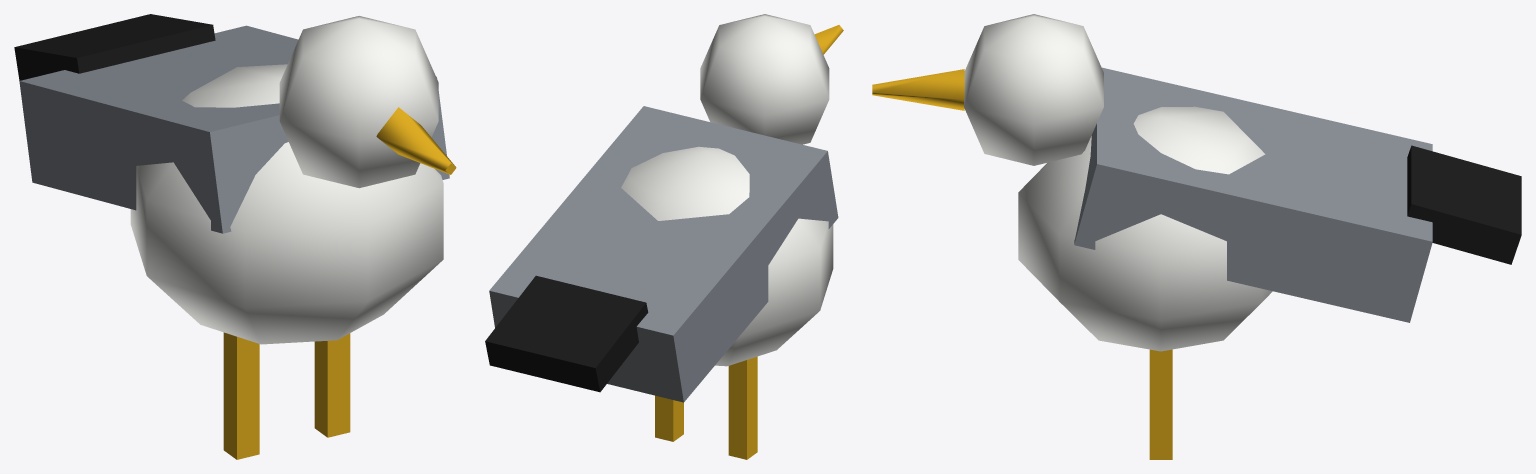
Rendered from hb_gull.glb.
3 views of the same model, side by side, from view 1: azimuth 30°, elevation 25°; view 2: azimuth 150°, elevation 25°; view 3: azimuth 270°, elevation 25° (orthographic). The views are drawn at different scales.
Visible parts, largest first — view 1: hb_gull; view 2: hb_gull; view 3: hb_gull.
Part boxes in pixels (x1,y1,x2,y2): hb_gull: (14, 14, 456, 459); hb_gull: (485, 14, 843, 459); hb_gull: (872, 14, 1521, 459).
Size of the model in its own units: 0.2472 by 0.4 by 0.5622.
